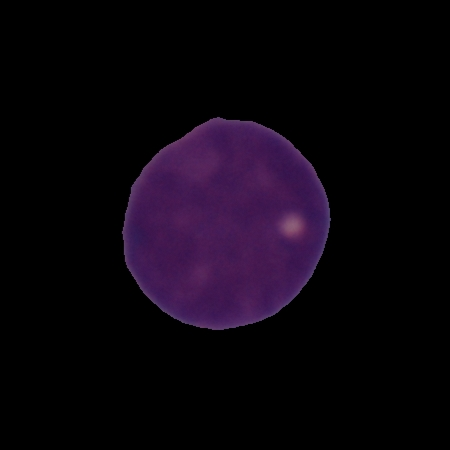ALL: (118, 113, 334, 333)
